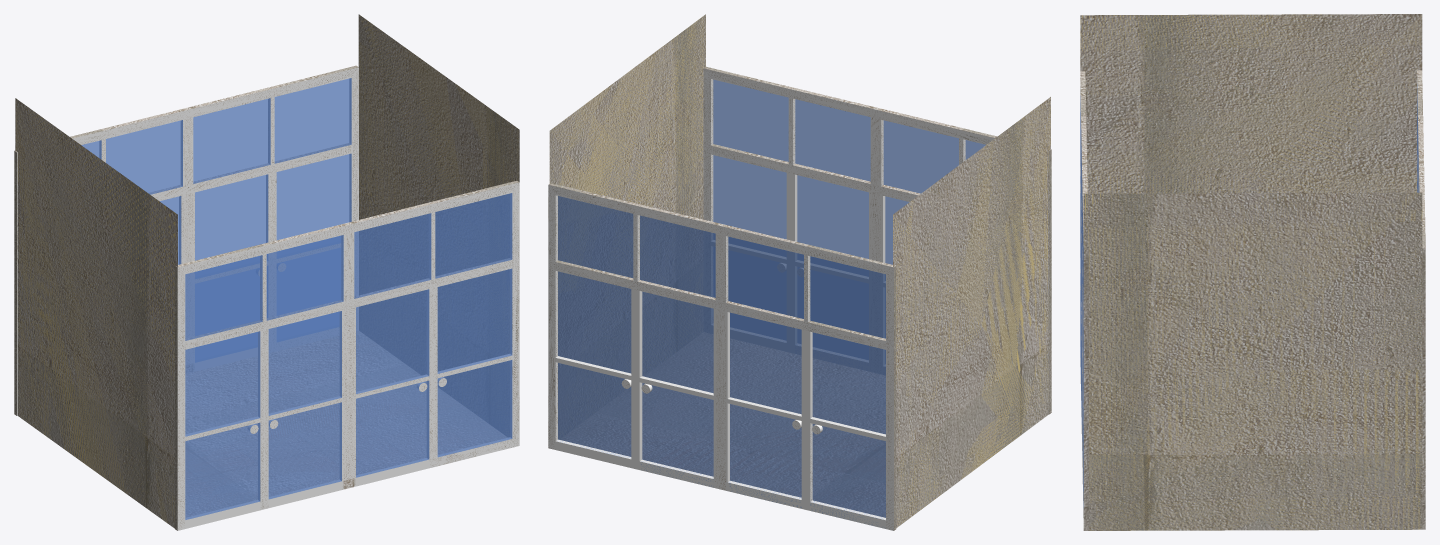
Rendered from COM001.obj.
3 views of the same model, side by side, from view 1: azimuth 30°, elevation 25°; view 2: azimuth 150°, elevation 25°; view 3: azimuth 270°, elevation 25° (orthographic). The views are drawn at different scales.
Parts seen in each view (by area): view 1: Mesh29 COM001 Model, Mesh15 puerta11_3_2 COM001 Model, Mesh1 puerta11_3_1 COM001 Model; view 2: Mesh29 COM001 Model, Mesh1 puerta11_3_1 COM001 Model, Mesh15 puerta11_3_2 COM001 Model; view 3: Mesh29 COM001 Model, Mesh15 puerta11_3_2 COM001 Model, Mesh1 puerta11_3_1 COM001 Model.
Boxes of the visible parts, <box> form: Mesh29 COM001 Model: <box>15,14,519,528</box>; Mesh15 puerta11_3_2 COM001 Model: <box>175,180,519,530</box>; Mesh1 puerta11_3_1 COM001 Model: <box>14,65,358,415</box>; Mesh29 COM001 Model: <box>549,14,1050,527</box>; Mesh1 puerta11_3_1 COM001 Model: <box>548,183,896,530</box>; Mesh15 puerta11_3_2 COM001 Model: <box>703,66,1051,414</box>; Mesh29 COM001 Model: <box>1080,14,1422,530</box>; Mesh15 puerta11_3_2 COM001 Model: <box>1080,71,1088,530</box>; Mesh1 puerta11_3_1 COM001 Model: <box>1417,70,1425,529</box>.
Size of the model in its own units: 4.13 by 3.6 by 3.34.
6 materials, 2 textured.
